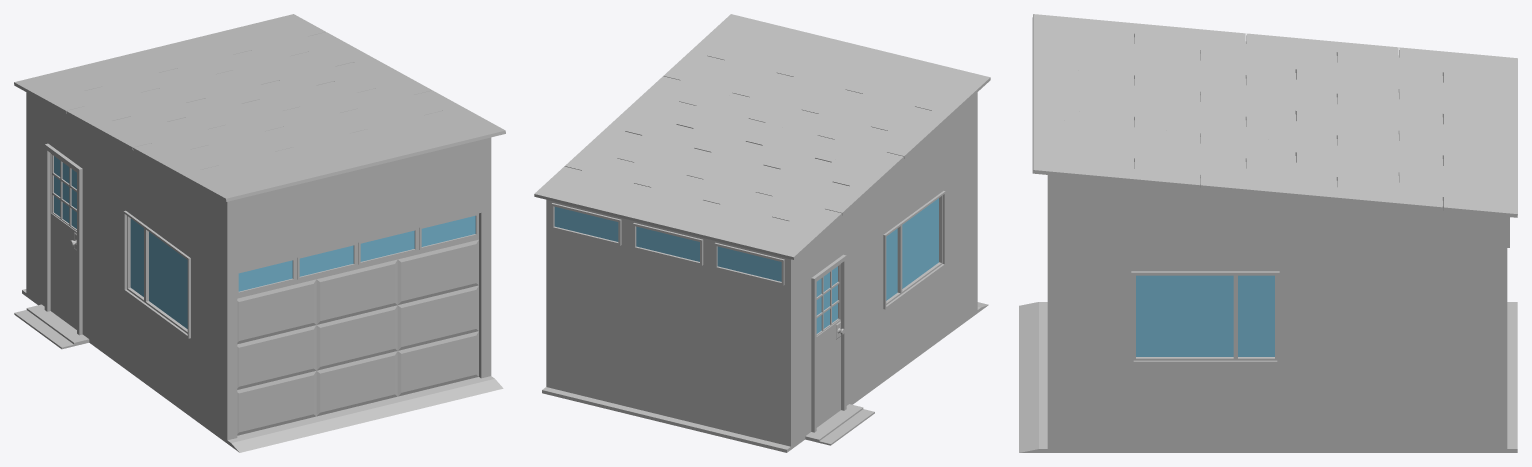
Rendered from Garage_02.gltf.
3 views of the same model, side by side, from view 1: azimuth 30°, elevation 25°; view 2: azimuth 150°, elevation 25°; view 3: azimuth 270°, elevation 25° (orthographic). The views are drawn at different scales.
Visible parts, largest first — view 1: Garage_02; view 2: Garage_02; view 3: Garage_02.
Part boxes in pixels (x1,y1,x2,y2): Garage_02: (14,14,505,452); Garage_02: (534,14,990,452); Garage_02: (1019,14,1517,452).
Size of the model in its own units: 4.54 by 3.64 by 5.73.
